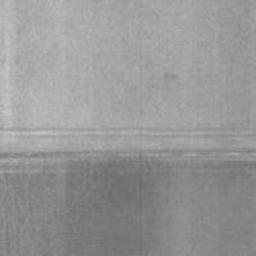Welding line: (0, 150, 256, 159)
